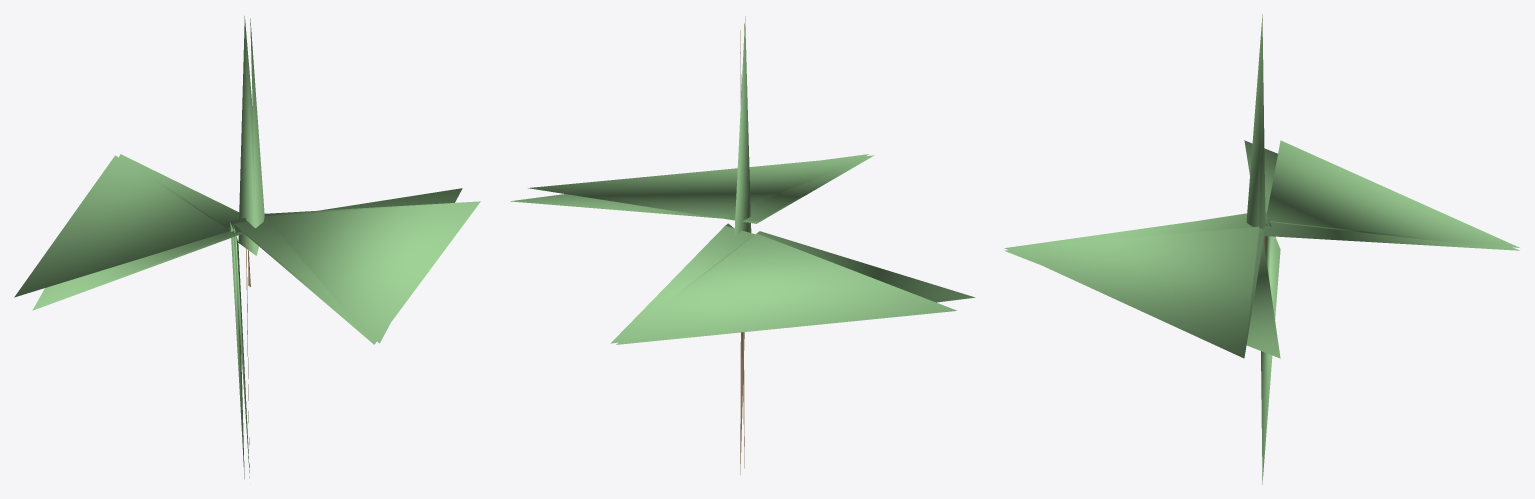
Rendered from equip_weapon_adamant_pickaxe.glb.
3 renders of one model, left to right at view 1: azimuth 30°, elevation 25°; view 2: azimuth 150°, elevation 25°; view 3: azimuth 270°, elevation 25°, orthographic.
Parts seen in each view (by area): view 1: equip_weapon_adamant_pickaxe; view 2: equip_weapon_adamant_pickaxe; view 3: equip_weapon_adamant_pickaxe.
Boxes of the visible parts, x1,y1,x2,y2 form: equip_weapon_adamant_pickaxe: [14, 16, 480, 478]; equip_weapon_adamant_pickaxe: [510, 16, 975, 474]; equip_weapon_adamant_pickaxe: [1004, 14, 1519, 484].
Size of the model in its own units: 2 by 2 by 2.
